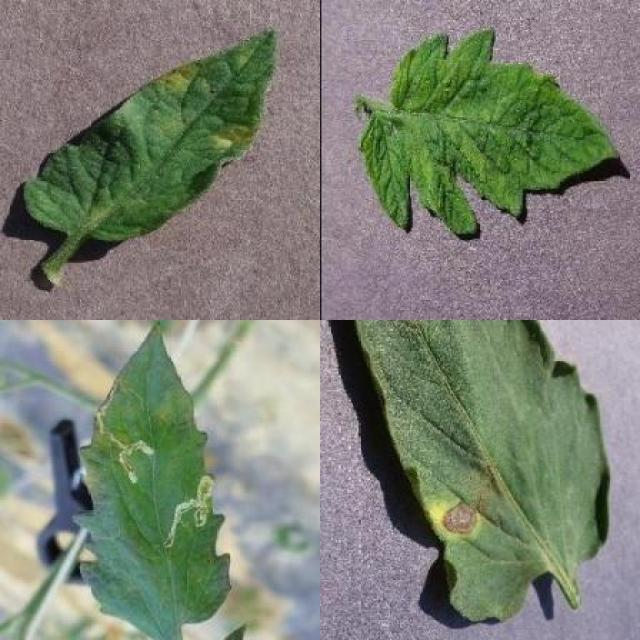Early Blight: (355, 320, 611, 626)
Leaf Miner: (71, 321, 233, 640)
Leaf Mold: (23, 28, 281, 242)
Mosaic Virus: (358, 27, 622, 236)
